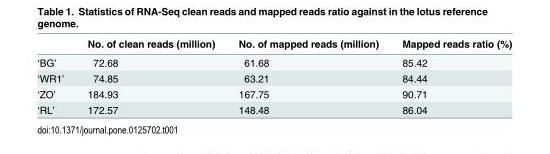table: (36, 37, 511, 115)
table column: (226, 37, 389, 115), (74, 37, 226, 115), (389, 37, 511, 115), (36, 37, 74, 115)
table column header: (36, 37, 511, 52)
table row: (36, 52, 511, 70), (36, 85, 511, 101), (36, 37, 511, 52), (36, 70, 511, 85), (36, 101, 511, 115)
